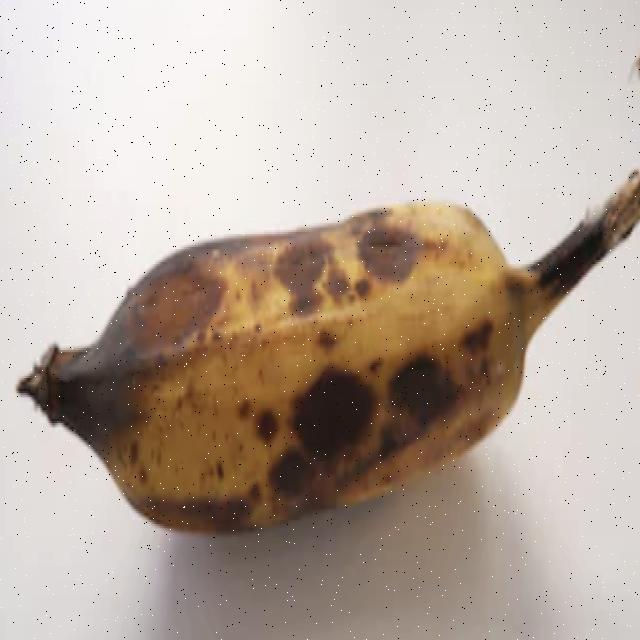Rotten: (4, 21, 640, 581)
